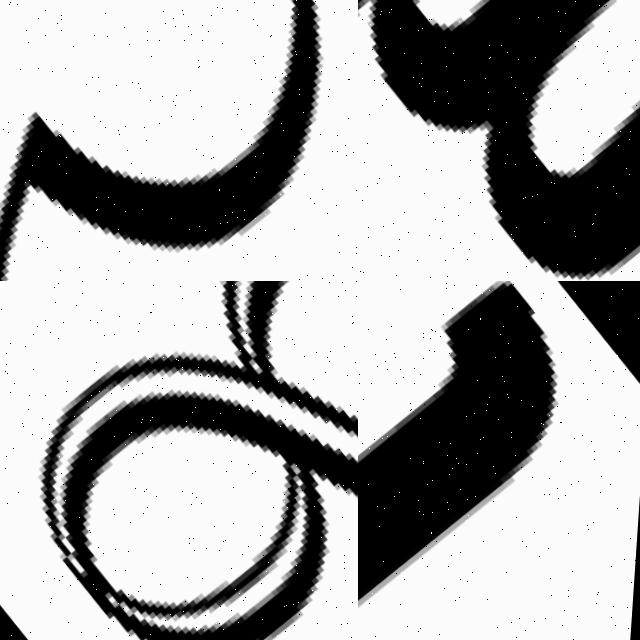5: (0, 0, 358, 281)
8: (0, 281, 358, 640)
J: (358, 281, 626, 640)
M: (358, 0, 640, 281)
